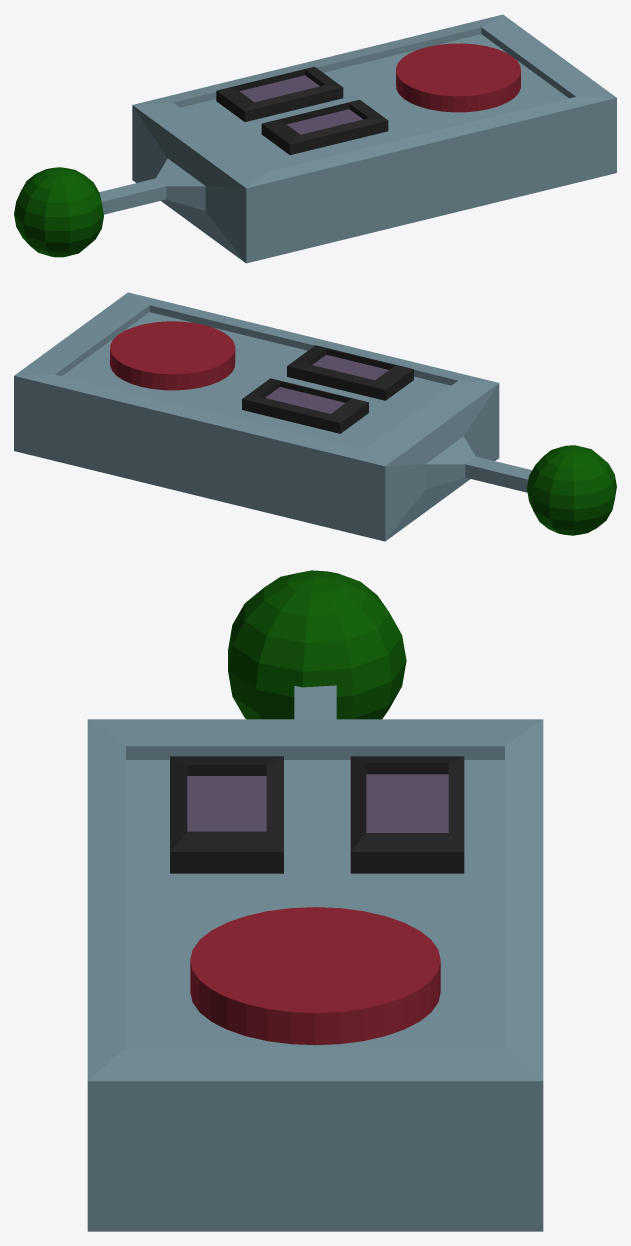
File: Remote.fbx
3 views of the same model, one above another, from view 1: azimuth 30°, elevation 25°; view 2: azimuth 150°, elevation 25°; view 3: azimuth 270°, elevation 25° (orthographic). The views are drawn at different scales.
Parts seen in each view (by area): view 1: Cube; view 2: Cube; view 3: Cube.
Part boxes in pixels (x1,y1,x2,y2): Cube: (14,14,616,263); Cube: (14,292,616,541); Cube: (87,570,543,1231).
Size of the model in its own units: 59.82 by 9.67 by 21.86.
